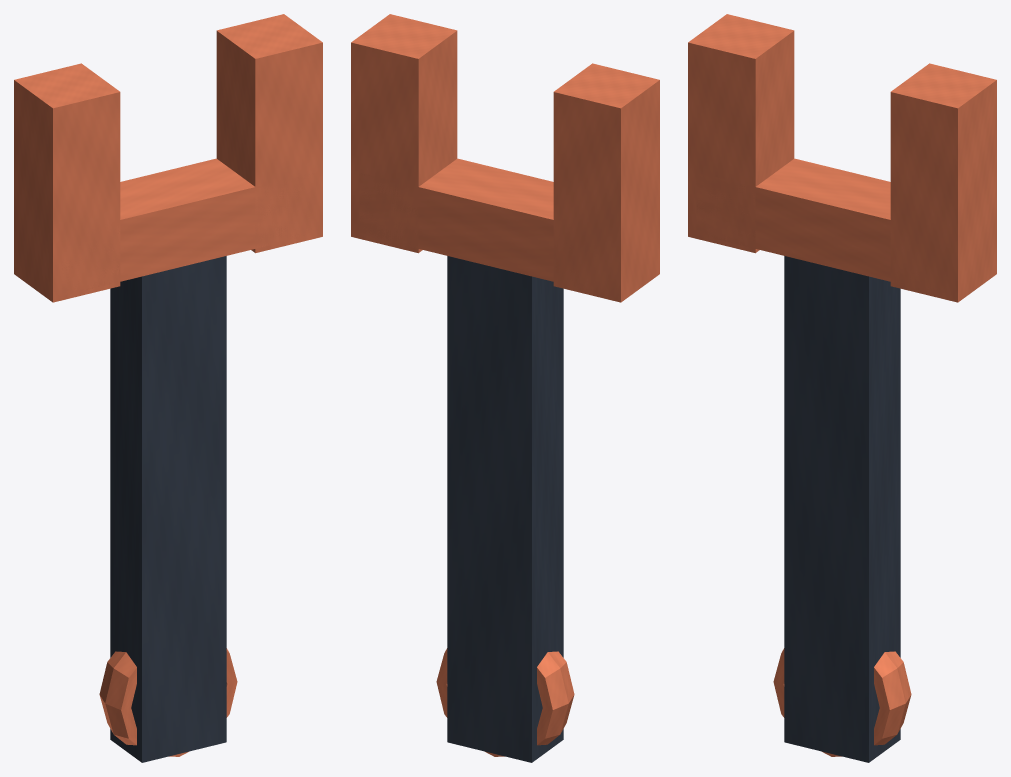
File: atlas100-s025-a05.glb
The picture shows the model from 3 angles, left to right: view 1: azimuth 30°, elevation 25°; view 2: azimuth 150°, elevation 25°; view 3: azimuth 330°, elevation 25°; orthographic projection.
Parts seen in each view (by area): view 1: atlas100-s025-a05:part-000, atlas100-s025-a05:part-001, atlas100-s025-a05:part-002, atlas100-s025-a05:part-003, atlas100-s025-a05:part-004; view 2: atlas100-s025-a05:part-000, atlas100-s025-a05:part-001, atlas100-s025-a05:part-002, atlas100-s025-a05:part-003, atlas100-s025-a05:part-004; view 3: atlas100-s025-a05:part-000, atlas100-s025-a05:part-002, atlas100-s025-a05:part-001, atlas100-s025-a05:part-003, atlas100-s025-a05:part-004.
Part boxes in pixels (x1,y1,x2,y2): atlas100-s025-a05:part-000: [110, 256, 226, 762]; atlas100-s025-a05:part-001: [14, 63, 120, 302]; atlas100-s025-a05:part-002: [216, 14, 322, 253]; atlas100-s025-a05:part-003: [61, 158, 313, 295]; atlas100-s025-a05:part-004: [99, 648, 237, 756]; atlas100-s025-a05:part-000: [447, 256, 563, 762]; atlas100-s025-a05:part-001: [553, 63, 659, 302]; atlas100-s025-a05:part-002: [351, 14, 457, 253]; atlas100-s025-a05:part-003: [359, 158, 612, 294]; atlas100-s025-a05:part-004: [436, 648, 574, 756]; atlas100-s025-a05:part-000: [784, 256, 900, 762]; atlas100-s025-a05:part-002: [890, 63, 996, 302]; atlas100-s025-a05:part-001: [688, 14, 794, 253]; atlas100-s025-a05:part-003: [696, 158, 948, 293]; atlas100-s025-a05:part-004: [773, 648, 911, 756].
Size of the model in its own units: 0.3494 by 0.8572 by 0.0874.
2 materials, 2 textured.
